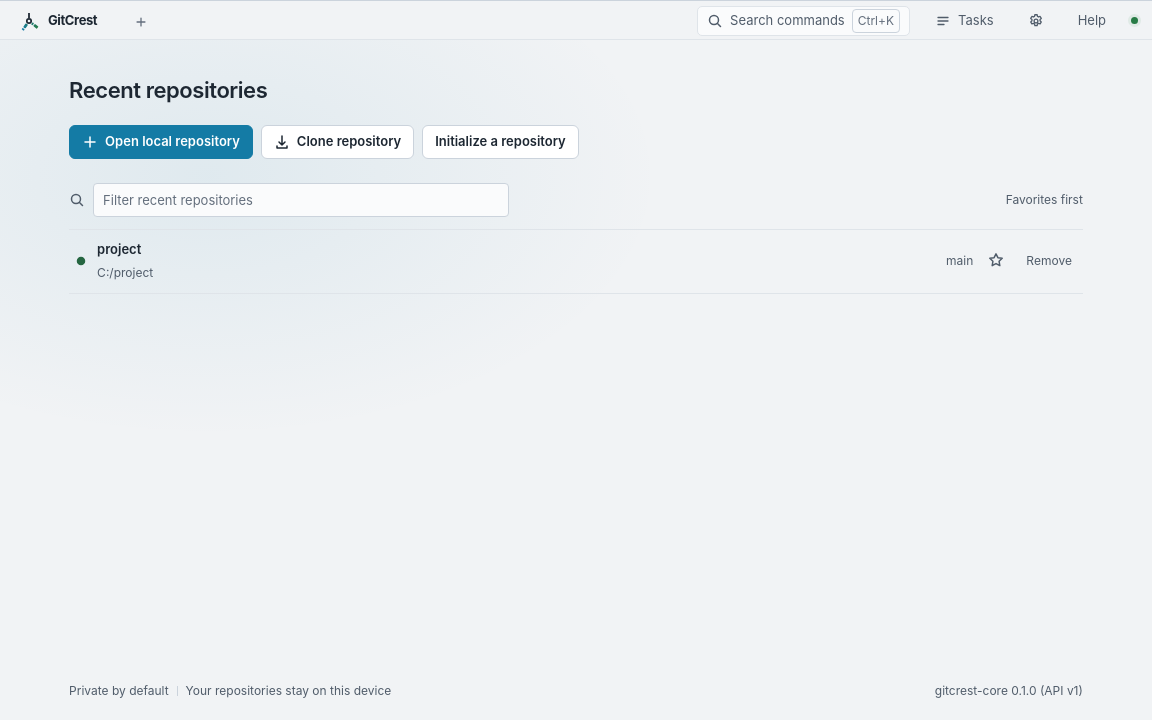
Scenario: App › shows persisted repositories in Welcome and lets the user favorite or forget them
Expected: the heading "Recent repositories" is shown, [69,77,267,103]
Expected: the text "C:/project" is shown, [97,264,153,282]
Step 1. Click the button named "Favorite project" → point(996, 261), box [981,246,1011,276]
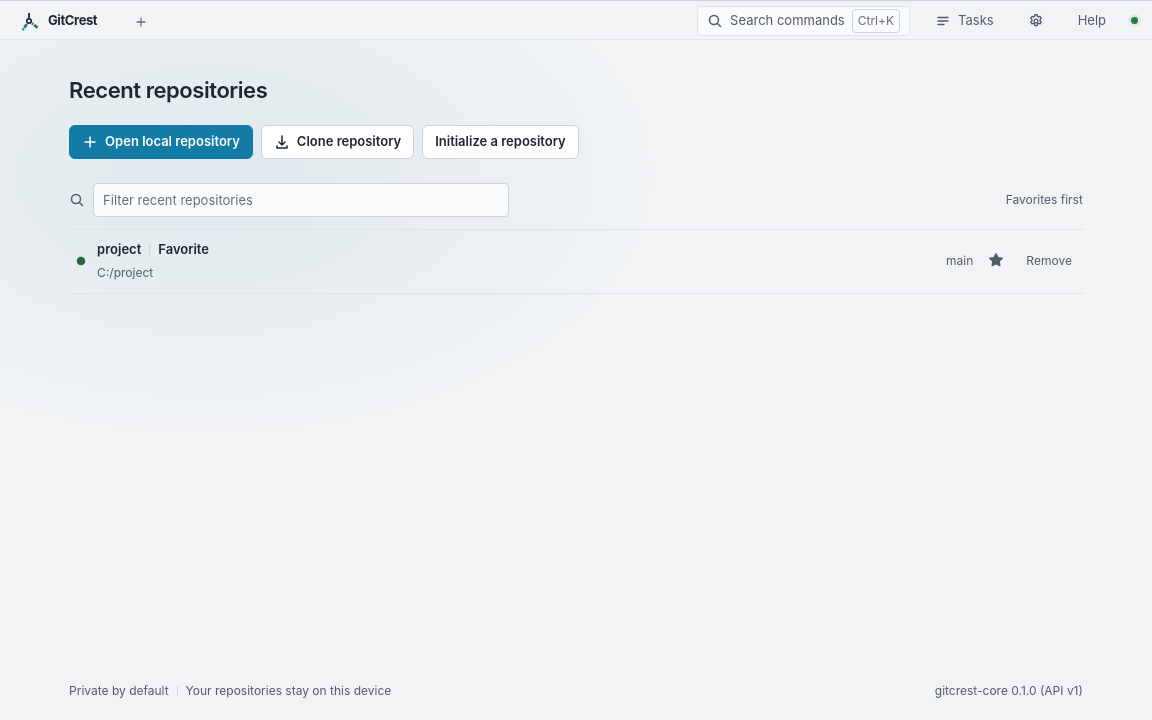
Expected: the button named "Remove project from favorites" is shown, [981,246,1011,276]
Step 2. Click the button with aria-label "Remove project from recent repositories" → point(1049, 261), box [1019,246,1079,276]
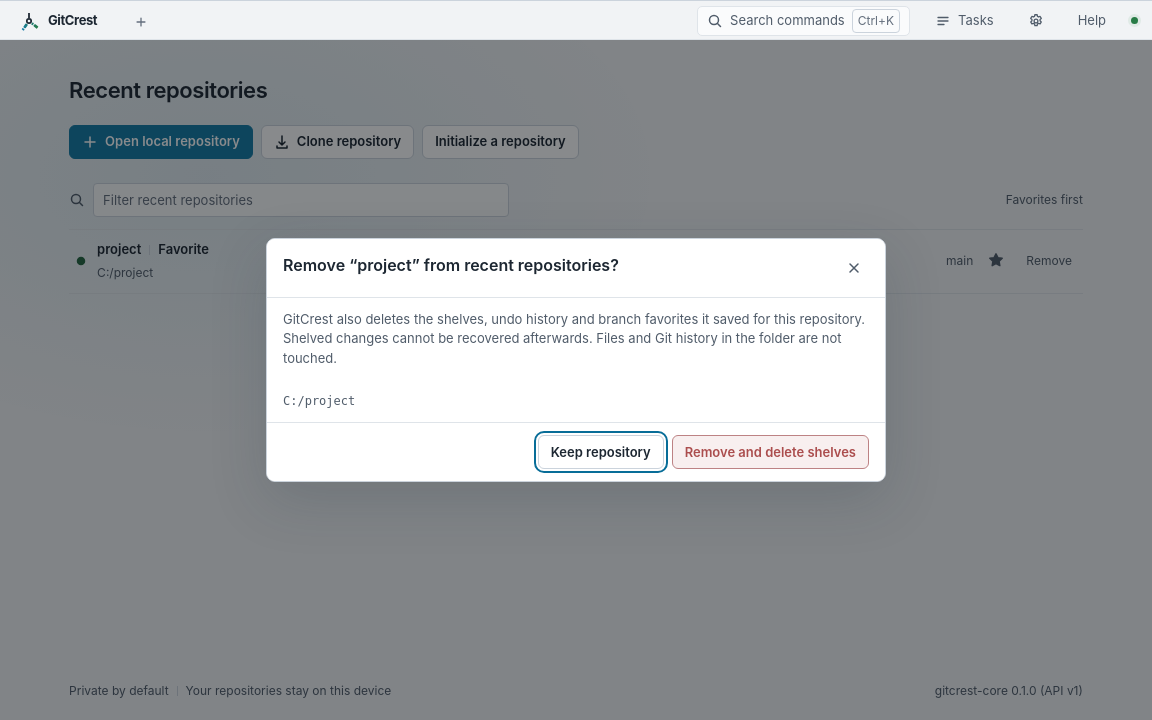
Expected: the dialog "Remove “project” from recent repositories?" shows "Shelved changes cannot be recovered", [283,311,865,366]
Step 3. Click the button "Keep repository" → point(601, 452), box [538,435,664,469]
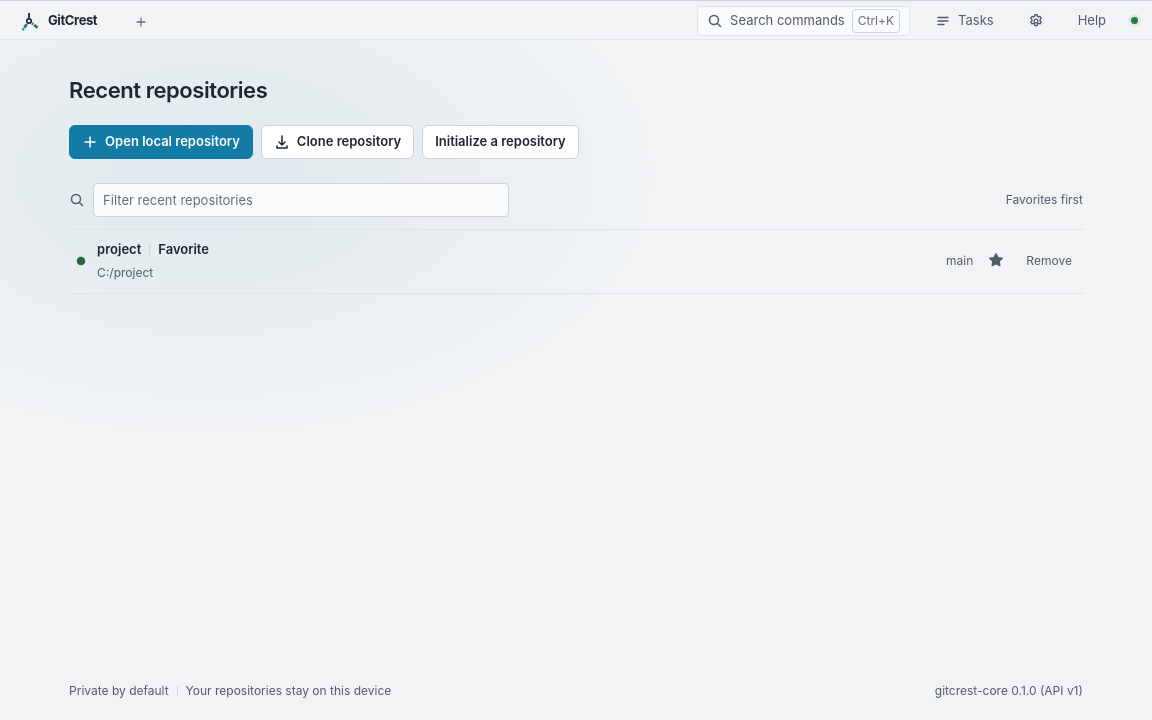
Expected: the dialog is gone
Step 4. Click the button with aria-label "Remove project from recent repositories" → point(1049, 261), box [1019,246,1079,276]
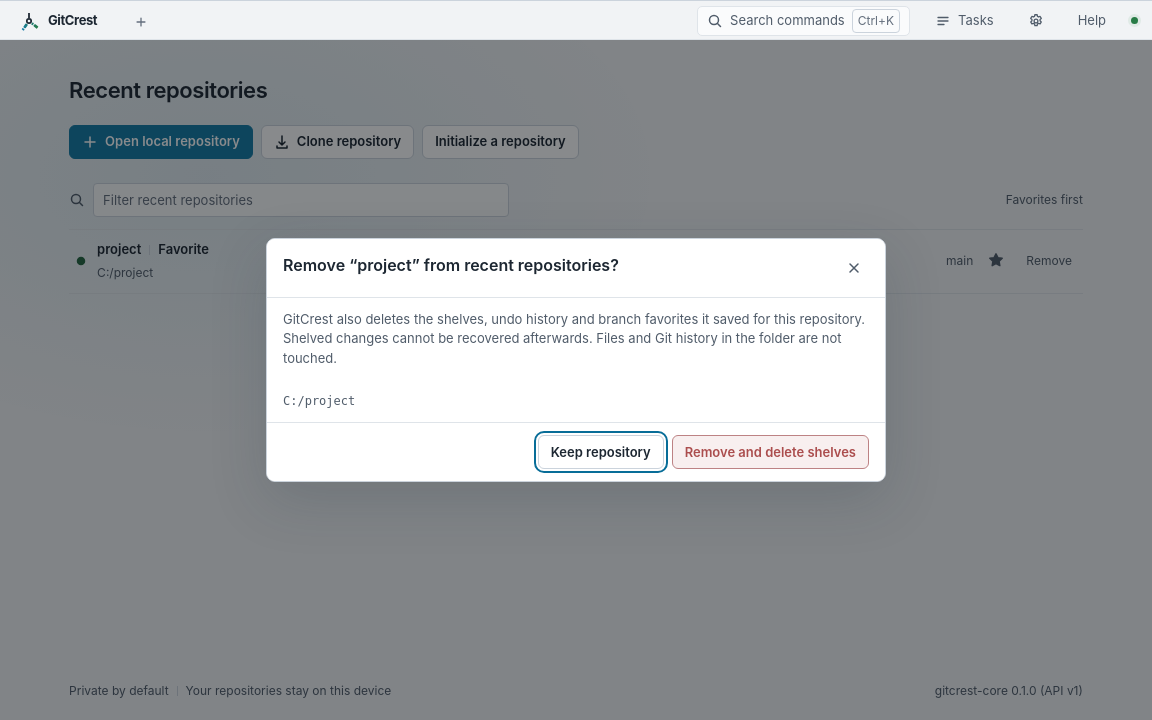
Step 5. Click the button "Remove and delete shelves" → point(770, 452), box [672,435,869,469]
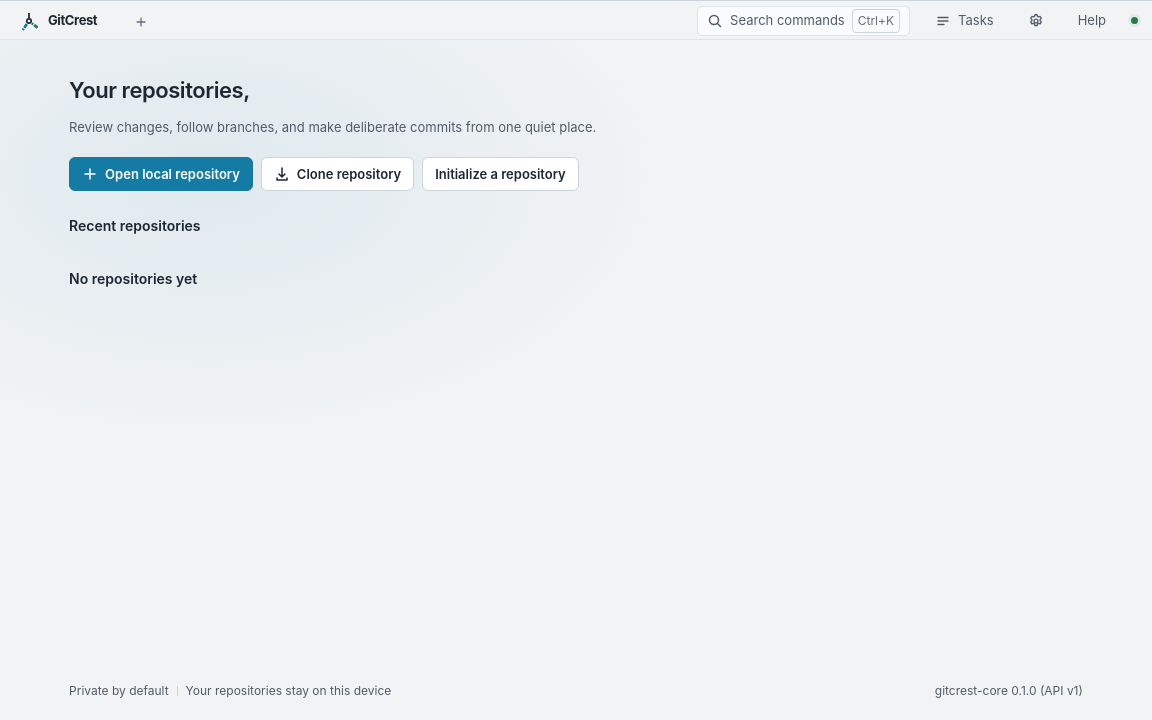
Expected: the button "C:/project" is gone
